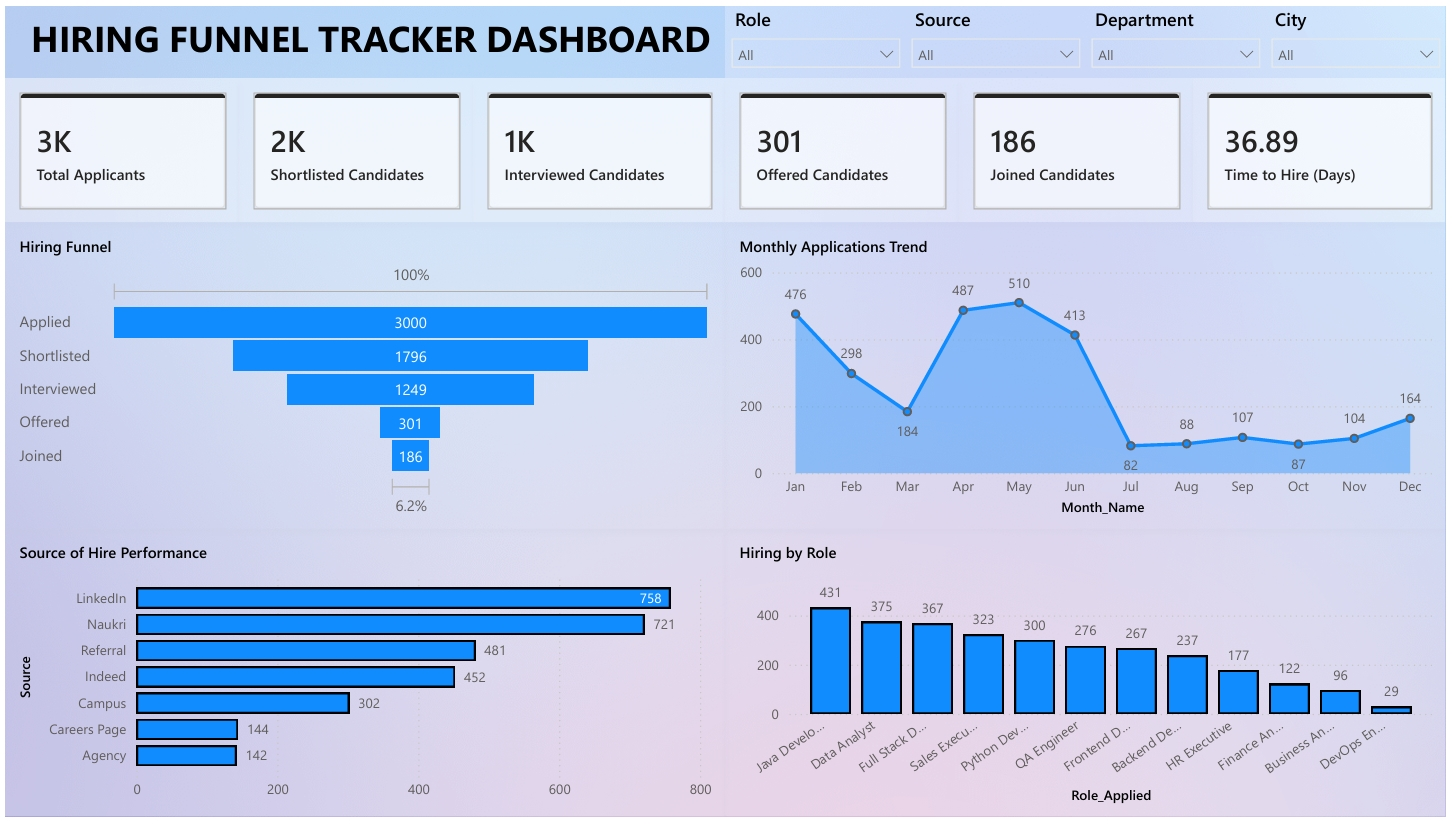

Layout of this report page (visuals, bound fields, positions):
{"tool":"powerbi","page":{"name":"Hiring Overview","canvas":[1280,720],"ordinal":0},"visuals":[{"type":"cardVisual","fields":{"Data":["Calendar.Total Applicants"]},"box":[0,64,208,128],"z":0},{"type":"cardVisual","fields":{"Data":["Calendar.Shortlisted Candidates"]},"box":[208,64,208,128],"z":1000},{"type":"cardVisual","fields":{"Data":["Calendar.Interviewed Candidates"]},"box":[416,64,224,128],"z":2000},{"type":"cardVisual","fields":{"Data":["Calendar.Offered Candidates"]},"box":[640,64,208,128],"z":3000},{"type":"cardVisual","fields":{"Data":["Calendar.Joined Candidates"]},"box":[848,64,208,128],"z":4000},{"type":"cardVisual","fields":{"Data":["Calendar.Time to Hire (Days)"]},"box":[1056,64,224,128],"z":5000},{"type":"funnel","title":"Hiring Funnel","fields":{"Category":["FunnelStages.Stage"],"Y":["FunnelStages.Funnel Count"]},"box":[0,192,640,272],"z":6000},{"type":"lineChart","title":"Monthly Applications Trend","fields":{"Category":["Calendar.Month_Name"],"Y":["Calendar.Total Applicants"]},"box":[640,192,640,272],"z":7000},{"type":"clusteredBarChart","title":"Source of Hire Performance","fields":{"Category":["Candidates.Source"],"Y":["Calendar.Total Applicants"]},"box":[0,464,640,256],"z":8000},{"type":"clusteredColumnChart","title":"Hiring by Role","fields":{"Category":["Candidates.Role_Applied"],"Y":["Calendar.Total Applicants"]},"box":[640,464,640,256],"z":9000},{"type":"slicer","fields":{"Values":["Candidates.Role_Applied"]},"box":[640,0,160,64],"z":10000},{"type":"slicer","fields":{"Values":["Candidates.Source"]},"box":[800,0,160,64],"z":11000},{"type":"slicer","fields":{"Values":["Candidates.Department"]},"box":[960,0,160,64],"z":12000},{"type":"slicer","fields":{"Values":["Candidates.City"]},"box":[1120,0,160,64],"z":13000},{"type":"textbox","box":[0,0,640,64],"z":14000}]}

Visuals, with their boxes in screenshot pixels (x1, y1, x2, y2), scaled from the page's 1280x720 canvas onto the 1452x824 screenshot:
cardVisual - Calendar.Total Applicants: BBox(0, 73, 236, 220)
cardVisual - Calendar.Shortlisted Candidates: BBox(236, 73, 472, 220)
cardVisual - Calendar.Interviewed Candidates: BBox(472, 73, 726, 220)
cardVisual - Calendar.Offered Candidates: BBox(726, 73, 962, 220)
cardVisual - Calendar.Joined Candidates: BBox(962, 73, 1198, 220)
cardVisual - Calendar.Time to Hire (Days): BBox(1198, 73, 1451, 220)
"Hiring Funnel" funnel: BBox(0, 220, 726, 531)
"Monthly Applications Trend" lineChart: BBox(726, 220, 1451, 531)
"Source of Hire Performance" clusteredBarChart: BBox(0, 531, 726, 823)
"Hiring by Role" clusteredColumnChart: BBox(726, 531, 1451, 823)
slicer - Candidates.Role_Applied: BBox(726, 0, 907, 73)
slicer - Candidates.Source: BBox(907, 0, 1089, 73)
slicer - Candidates.Department: BBox(1089, 0, 1270, 73)
slicer - Candidates.City: BBox(1270, 0, 1451, 73)
textbox: BBox(0, 0, 726, 73)
